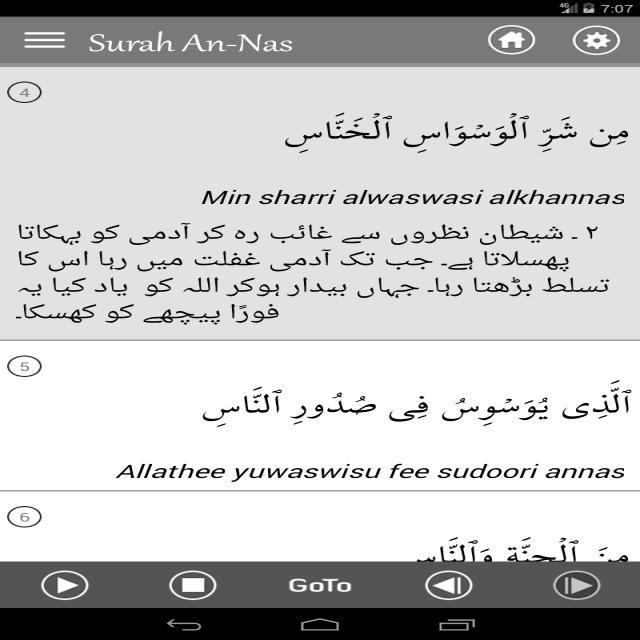ImageButton: (545, 565, 614, 597), (155, 570, 228, 600), (37, 571, 106, 602), (560, 24, 624, 57), (483, 22, 540, 58), (2, 30, 82, 54), (421, 572, 475, 600)
TextView: (14, 224, 616, 326), (182, 380, 638, 434), (264, 103, 634, 157), (111, 458, 629, 484), (198, 183, 625, 213), (399, 524, 627, 565), (88, 30, 298, 54), (281, 571, 361, 595)
